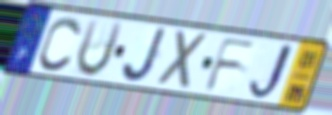C: (37, 14, 85, 74)
F: (202, 36, 260, 93)
J: (246, 41, 297, 104), (121, 26, 171, 85)
U: (75, 17, 126, 79)
X: (155, 28, 212, 92)
